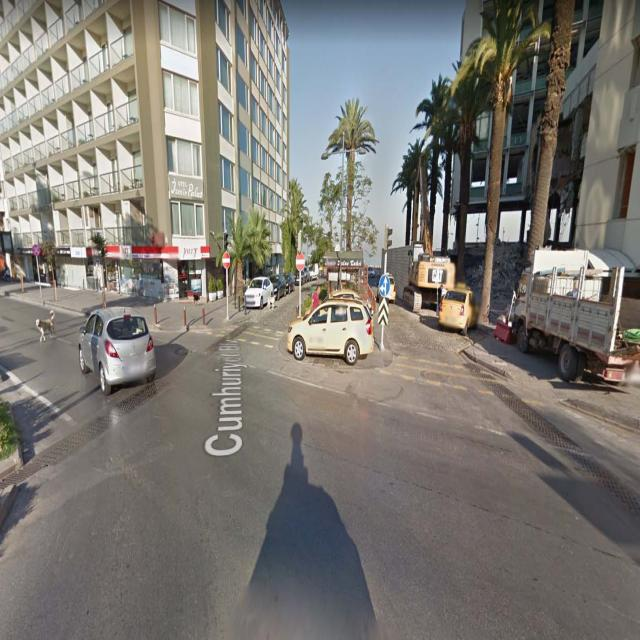girisyok: (296, 253, 304, 272), (222, 252, 230, 269)
ilerisol: (379, 274, 390, 296)
